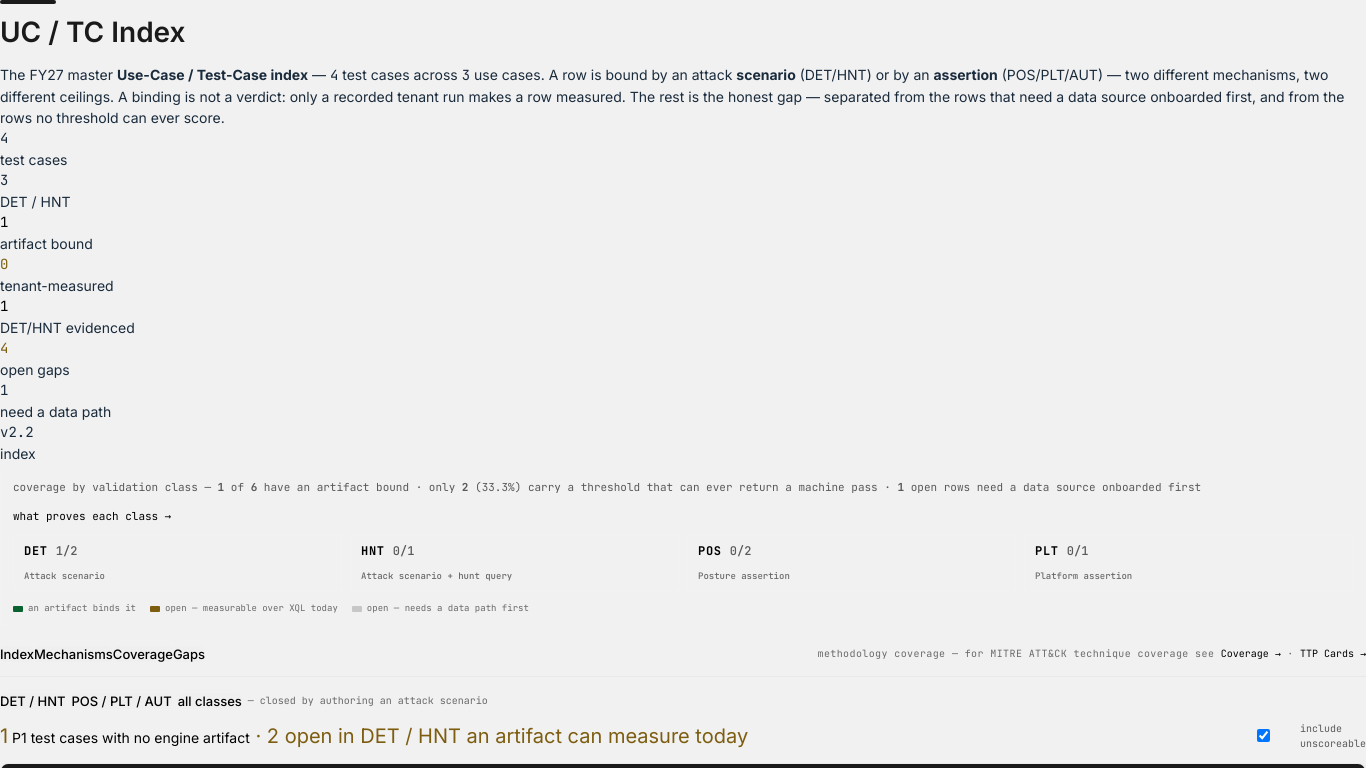
UcTcIndexView — the honest backlog › warns that assertion gaps are unclosable when the mechanism is absent
The width and height of the screenshot is (1366, 768).
What coordinates should you click on to do the following:
click the button with test id "uctc-gapscope-assertion"
I would click on:
 (122, 701)
Its box is [72,693,172,709].
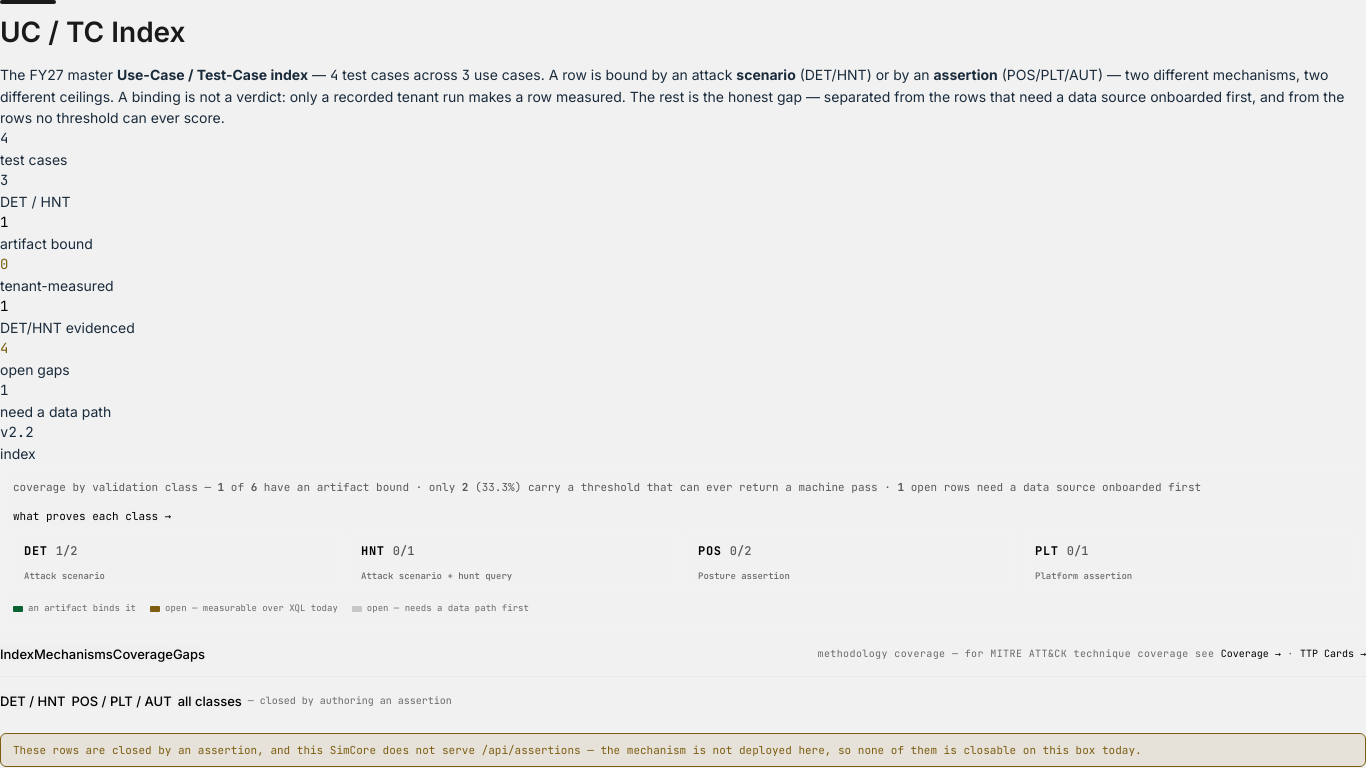
Result: the element with test id "uctc-gaps-noassertions" is shown at [0,733,1365,767]
